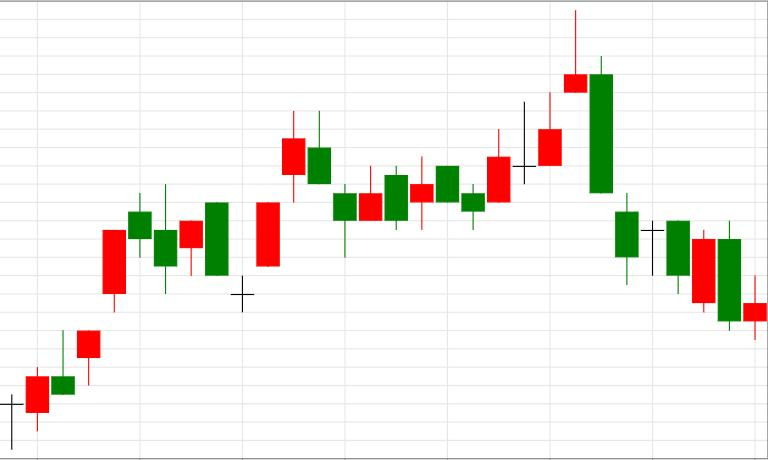morning_star_rise: (129, 182, 279, 313)
shooting_star_fall: (411, 11, 587, 229)
